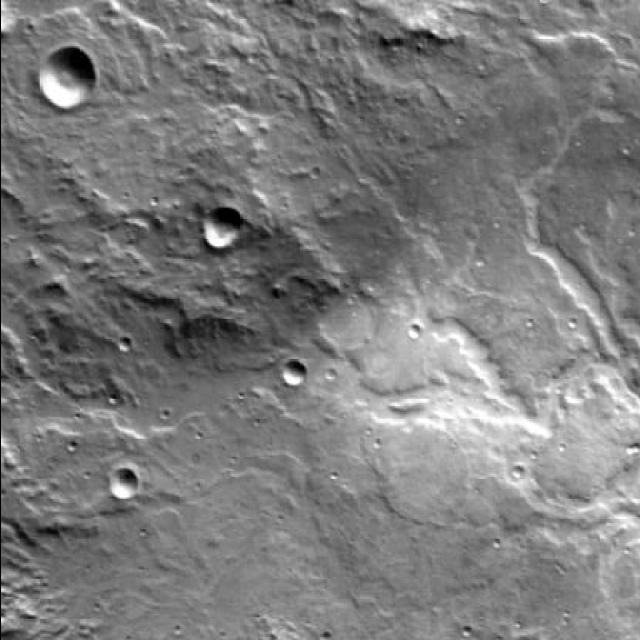crater: (313, 290, 375, 356), (38, 46, 96, 109), (204, 208, 242, 250), (105, 467, 137, 502), (281, 360, 305, 386)
